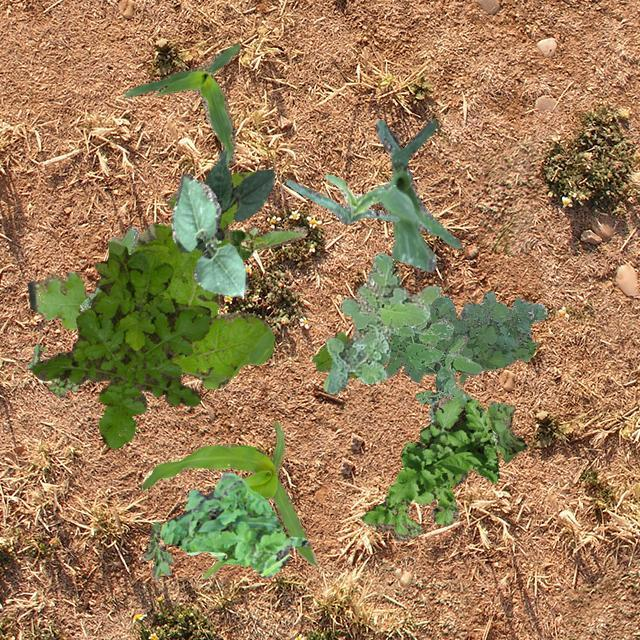crop: (140, 420, 316, 578), (123, 41, 240, 162), (374, 118, 462, 270), (170, 172, 247, 296), (194, 148, 274, 250), (286, 174, 398, 222), (228, 224, 306, 260)
weed: (27, 171, 274, 387), (31, 240, 210, 448), (361, 394, 498, 540), (322, 252, 440, 392), (158, 472, 306, 576), (382, 290, 544, 382), (391, 314, 482, 422), (418, 400, 526, 486), (78, 224, 138, 310), (430, 400, 496, 444), (26, 344, 76, 396), (310, 332, 358, 376), (142, 522, 172, 580)
